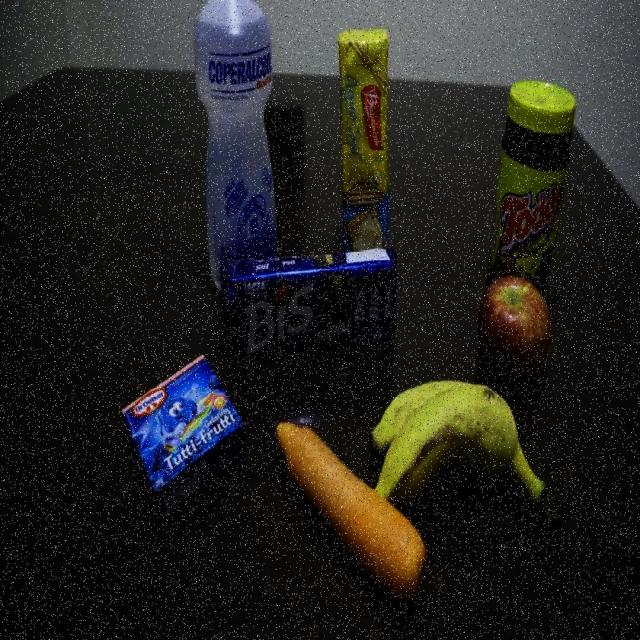AlcoholBottle: (191, 0, 278, 252)
Apple: (483, 276, 551, 375)
Banana: (378, 381, 565, 555)
Carrot: (272, 415, 368, 603)
ChocolatePowder: (495, 82, 571, 268)
Cracker: (340, 24, 388, 244)
Gelatine: (114, 352, 240, 528)
